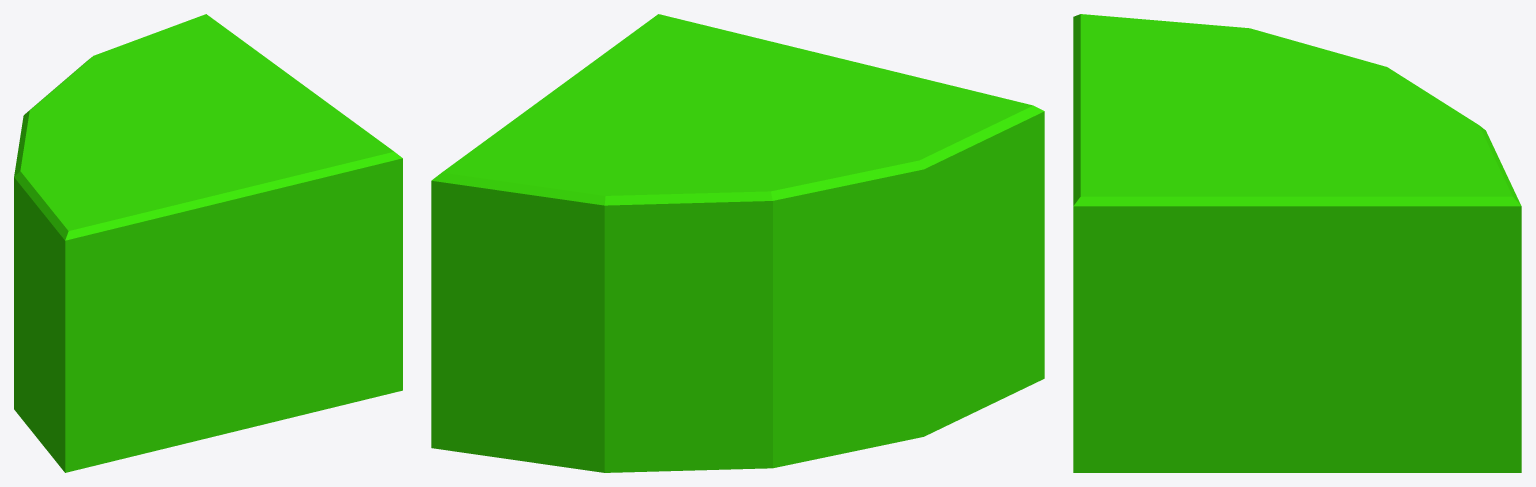
The model's file is round_3x2_02.fbx.
3 views of the same model, side by side, from view 1: azimuth 30°, elevation 25°; view 2: azimuth 150°, elevation 25°; view 3: azimuth 270°, elevation 25° (orthographic). The views are drawn at different scales.
Visible parts, largest first — view 1: round_3x2_02; view 2: round_3x2_02; view 3: round_3x2_02.
Boxes of the visible parts, x1,y1,x2,y2 form: round_3x2_02: [14, 14, 402, 472]; round_3x2_02: [431, 14, 1044, 472]; round_3x2_02: [1073, 14, 1521, 472].
Bounding box in the file's own units: 312 × 210 × 312.
